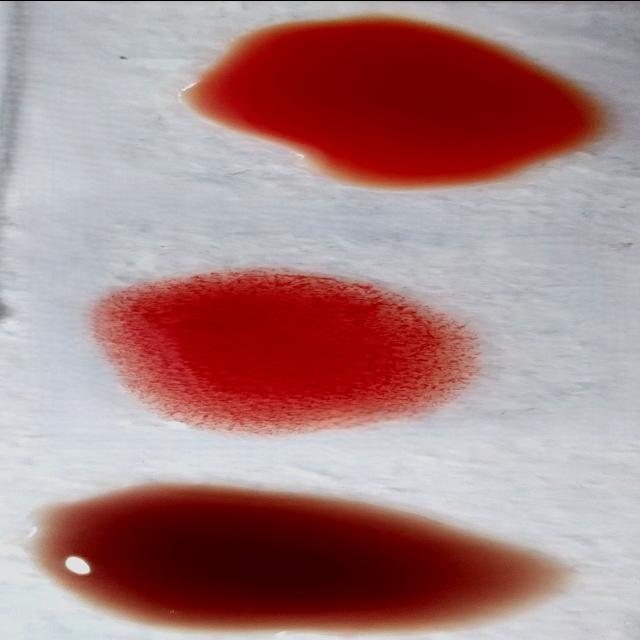D: (93, 268, 483, 431)
